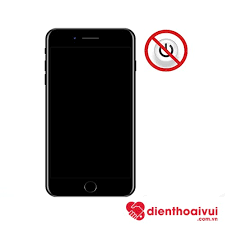iphone6: (40, 25, 136, 195)
iphone7: (41, 28, 137, 198)
